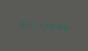eight: (47, 20, 52, 31), (53, 20, 58, 31), (59, 21, 64, 32)
one: (23, 18, 28, 29)
seven: (35, 19, 40, 30)
two: (29, 18, 34, 30), (41, 19, 46, 31)
zero: (17, 18, 22, 29)
